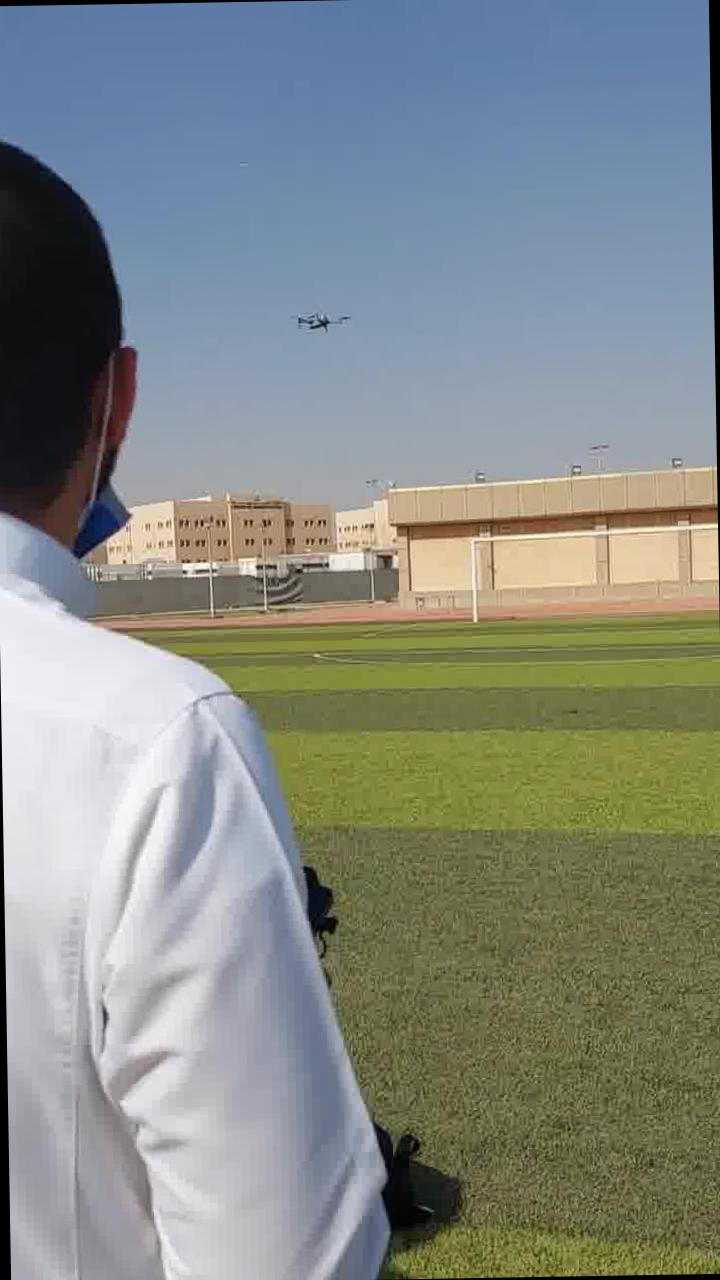drone: (284, 292, 352, 336)
